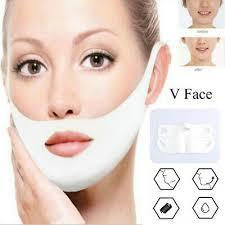Wore Mask Incorrectly: (0, 1, 179, 201)
